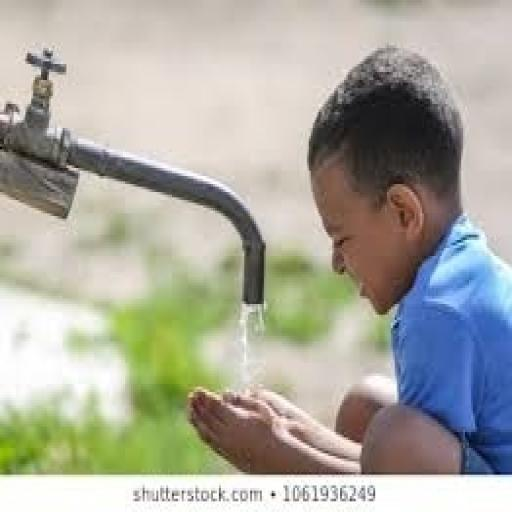drinking: (151, 76, 379, 366)
